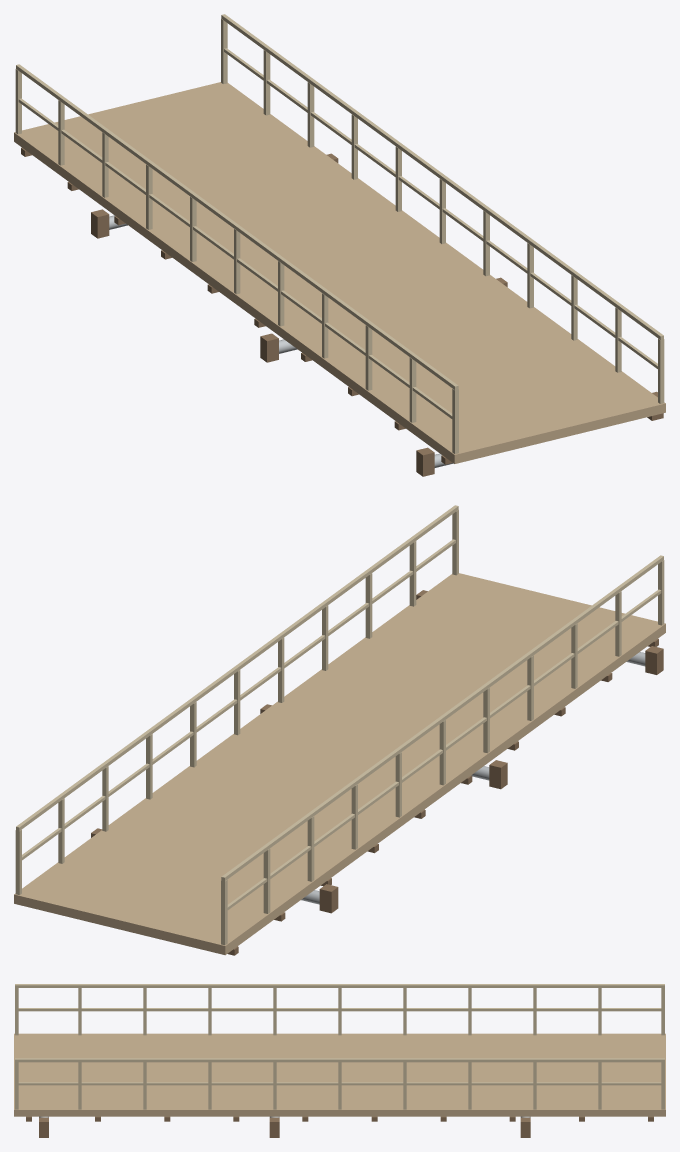
The model's file is gangplank_rail.glb.
3 renders of one model, top to bottom at view 1: azimuth 30°, elevation 25°; view 2: azimuth 150°, elevation 25°; view 3: azimuth 270°, elevation 25°, orthographic. The views are drawn at different scales.
Parts seen in each view (by area): view 1: plank, bridge; view 2: plank, bridge; view 3: plank, bridge.
Boxes of the visible parts, x1,y1,x2,y2 form: plank: (14, 14, 665, 464); bridge: (91, 153, 663, 476); plank: (14, 505, 665, 955); bridge: (91, 590, 663, 913); plank: (14, 984, 665, 1121); bridge: (39, 1116, 530, 1137).
Size of the model in its own units: 4.1 by 1.6 by 13.
